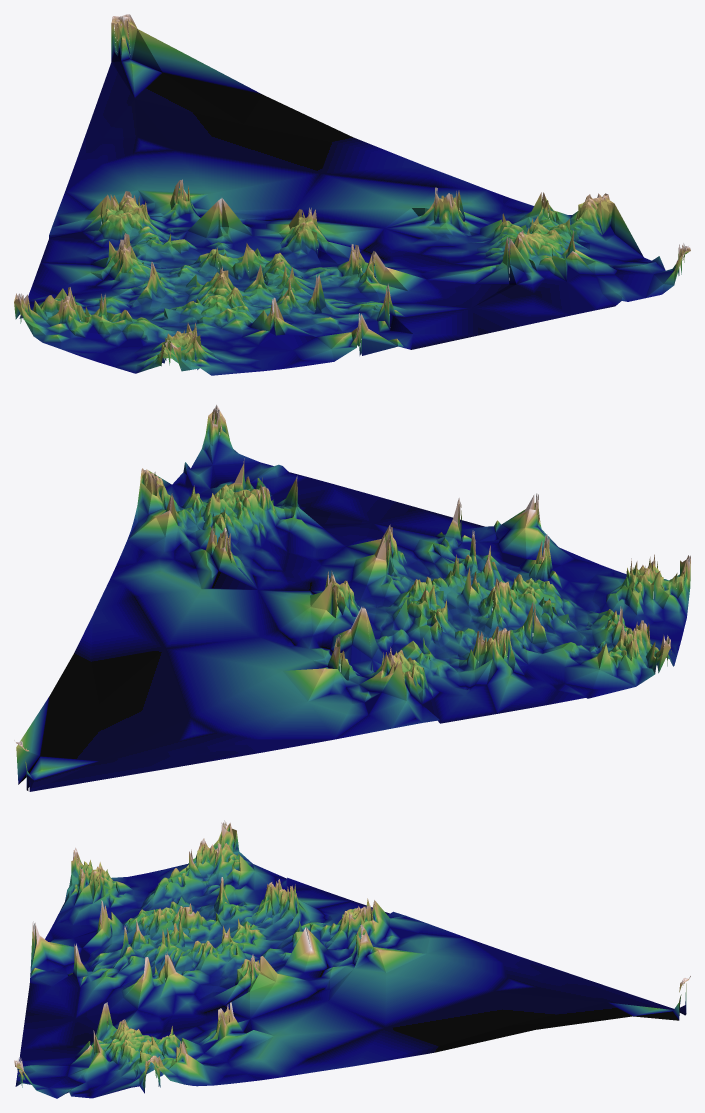
File: umap2_island.gltf
3 renders of one model, top to bottom at view 1: azimuth 30°, elevation 25°; view 2: azimuth 150°, elevation 25°; view 3: azimuth 270°, elevation 25°, orthographic. The views are drawn at different scales.
Visible parts, largest first — view 1: Renderer Node; view 2: Renderer Node; view 3: Renderer Node.
Boxes of the visible parts, <box> form: Renderer Node: <box>14,14,690,375</box>; Renderer Node: <box>14,404,690,791</box>; Renderer Node: <box>14,820,690,1098</box>.
Size of the model in its own units: 13.75 by 1.12 by 16.25.
Materials: 1 (1 with a texture image).
